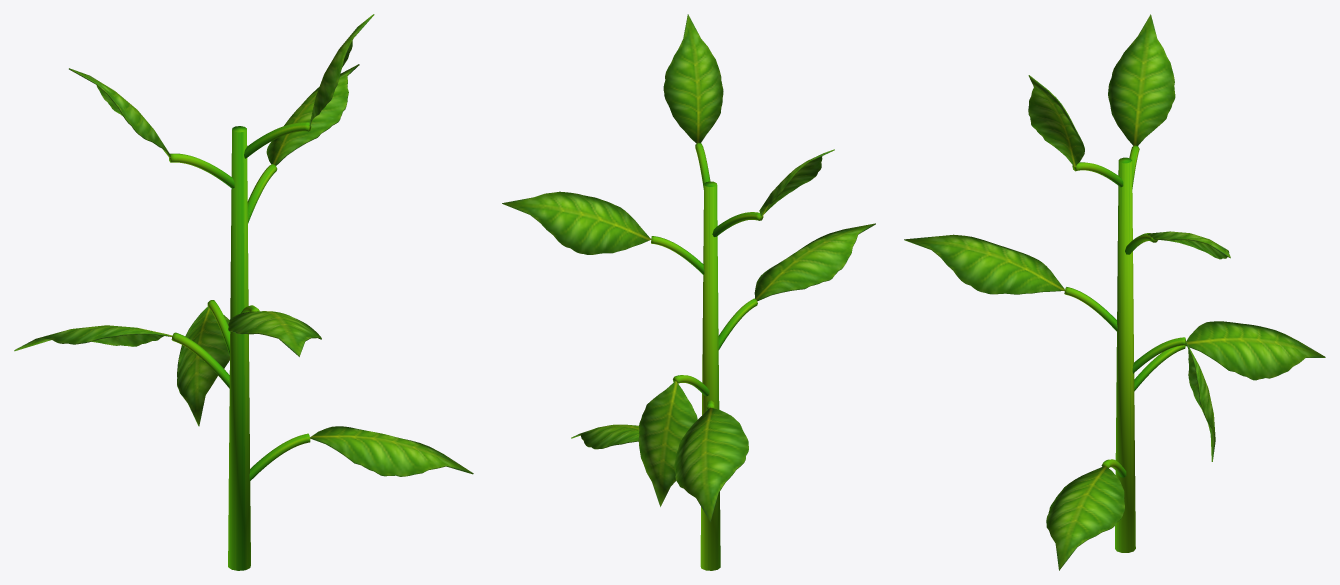
File: NP_ChiliPepper_Young.fbx
3 renders of one model, left to right at view 1: azimuth 30°, elevation 25°; view 2: azimuth 150°, elevation 25°; view 3: azimuth 270°, elevation 25°, orthographic. The views are drawn at different scales.
Visible parts, largest first — view 1: NP_ChiliPepper_Young; view 2: NP_ChiliPepper_Young; view 3: NP_ChiliPepper_Young.
Part boxes in pixels (left/top/right/bottom): NP_ChiliPepper_Young: left=14, top=14, right=473, bottom=570; NP_ChiliPepper_Young: left=502, top=14, right=875, bottom=570; NP_ChiliPepper_Young: left=904, top=14, right=1325, bottom=570.
Size of the model in its own units: 48.56 by 75.11 by 56.44.
